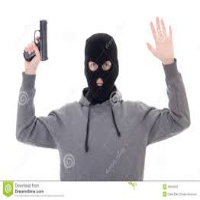ring: (160, 18, 168, 42), (26, 45, 31, 56)
